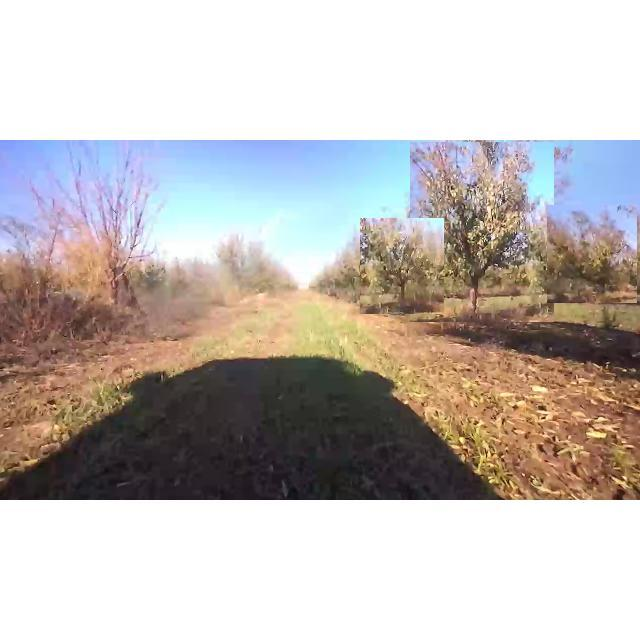direk: (411, 142, 554, 322), (24, 143, 166, 313), (547, 205, 637, 303), (361, 218, 444, 314)
